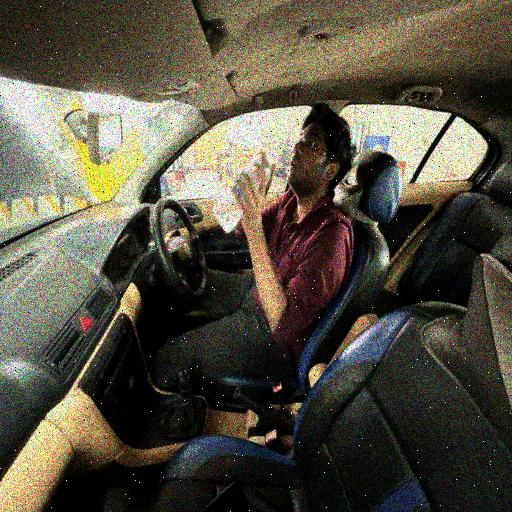Drinking: (210, 101, 356, 358)
